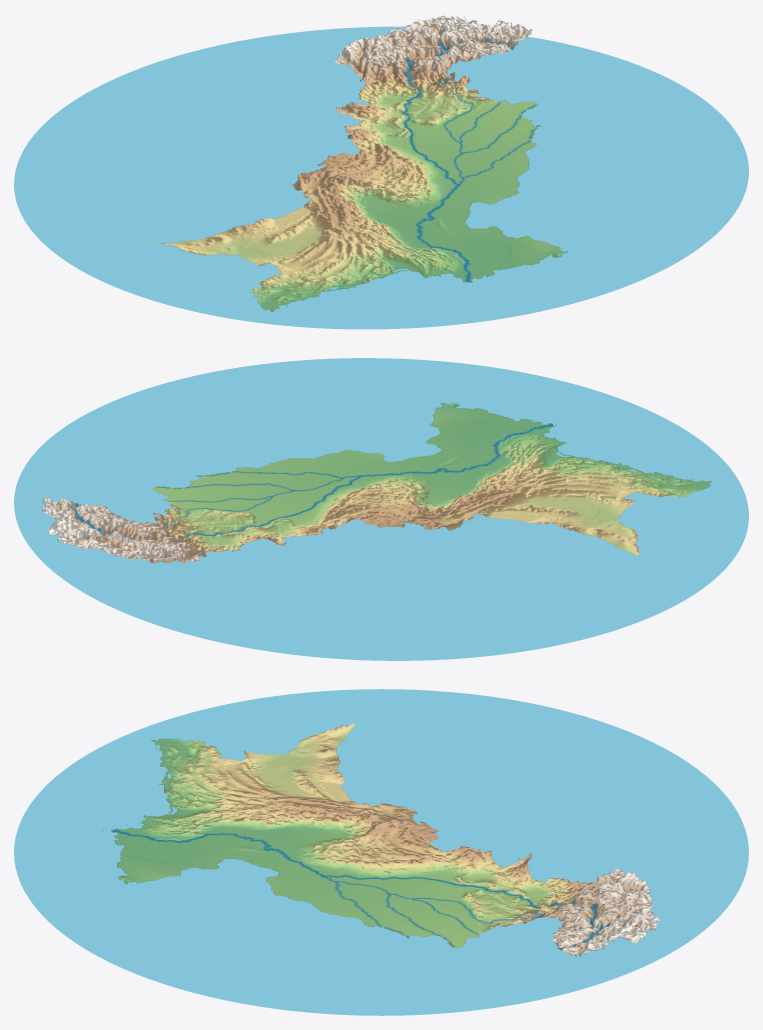
The model's file is PAK-terrain.glb.
3 renders of one model, top to bottom at view 1: azimuth 30°, elevation 25°; view 2: azimuth 150°, elevation 25°; view 3: azimuth 270°, elevation 25°, orthographic. The views are drawn at different scales.
Visible parts, largest first — view 1: Relevo com hidrografia; view 2: Relevo com hidrografia; view 3: Relevo com hidrografia.
Boxes of the visible parts, x1,y1,x2,y2 form: Relevo com hidrografia: (14, 15, 748, 329); Relevo com hidrografia: (14, 358, 748, 660); Relevo com hidrografia: (14, 689, 748, 1015).
Size of the model in its own units: 2.11 by 0.0723 by 2.
2 materials, 1 textured.
